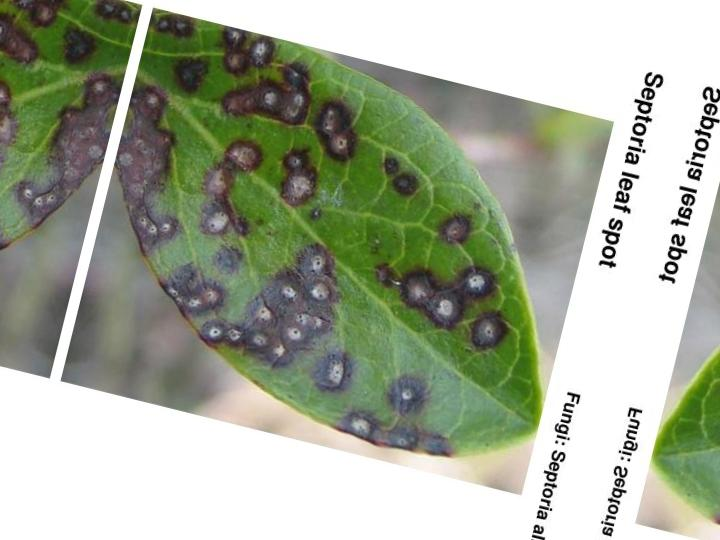Tomato Septoria leaf spot: (72, 12, 610, 484)
